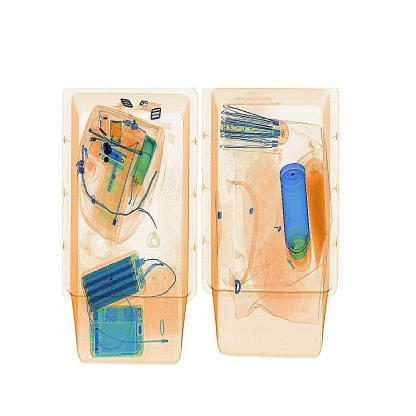knife: (98, 137, 114, 165)
